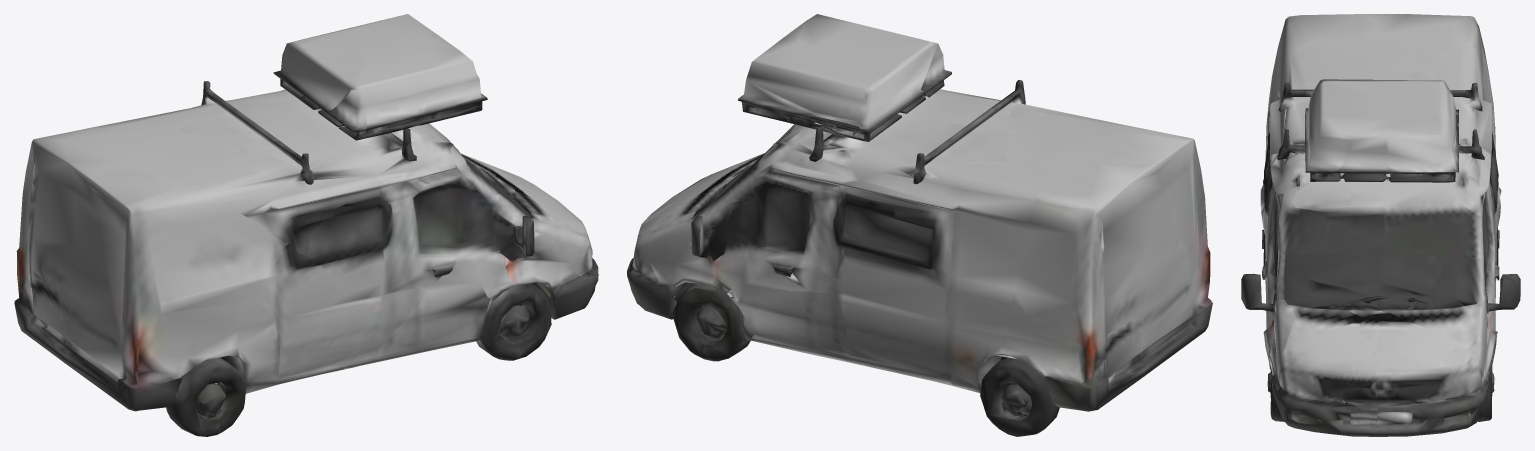
The model's file is service-van.glb.
The picture shows the model from 3 angles, left to right: view 1: azimuth 30°, elevation 25°; view 2: azimuth 150°, elevation 25°; view 3: azimuth 270°, elevation 25°; orthographic projection. The views are drawn at different scales.
Visible parts, largest first — view 1: tripo_node_2a49cac6-9b08-467d-81df-a9a6f25807b7; view 2: tripo_node_2a49cac6-9b08-467d-81df-a9a6f25807b7; view 3: tripo_node_2a49cac6-9b08-467d-81df-a9a6f25807b7.
Boxes of the visible parts, x1,y1,x2,y2 form: tripo_node_2a49cac6-9b08-467d-81df-a9a6f25807b7: (14, 14, 598, 436); tripo_node_2a49cac6-9b08-467d-81df-a9a6f25807b7: (627, 14, 1212, 436); tripo_node_2a49cac6-9b08-467d-81df-a9a6f25807b7: (1241, 14, 1520, 436).
Bounding box in the file's own units: 0.9997 × 0.5556 × 0.5132.
1 material, 1 textured.
